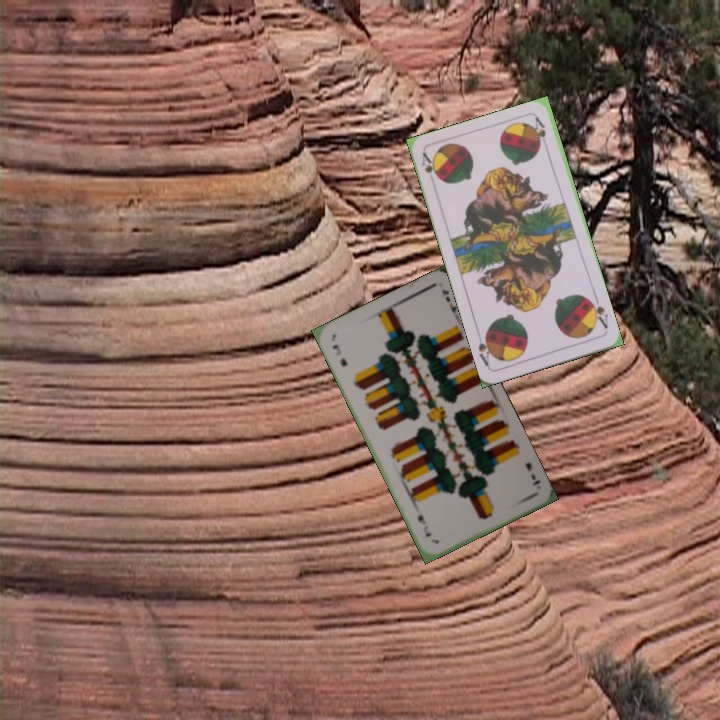E7: (521, 458, 543, 488), (328, 340, 350, 369)
SA: (585, 293, 611, 331), (418, 149, 442, 183)
